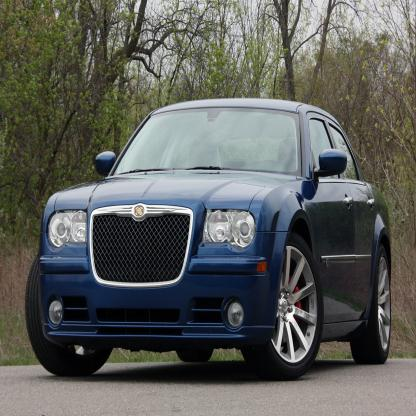Vehicle: (13, 81, 399, 392)
